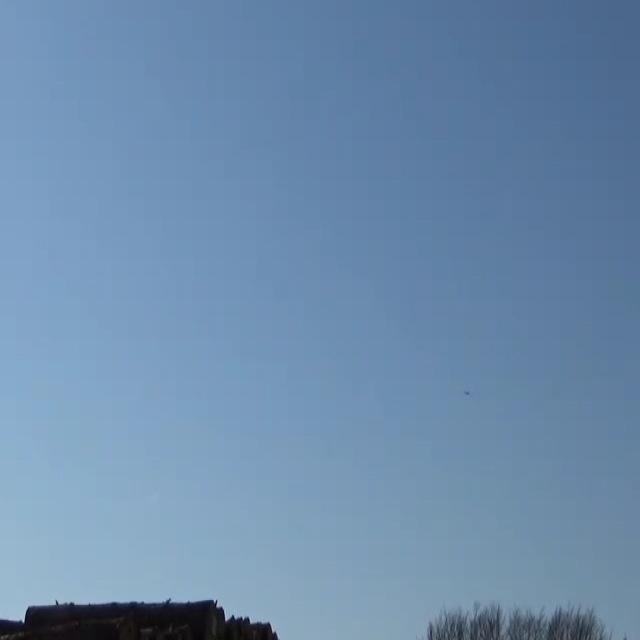bird: (458, 385, 475, 403)
